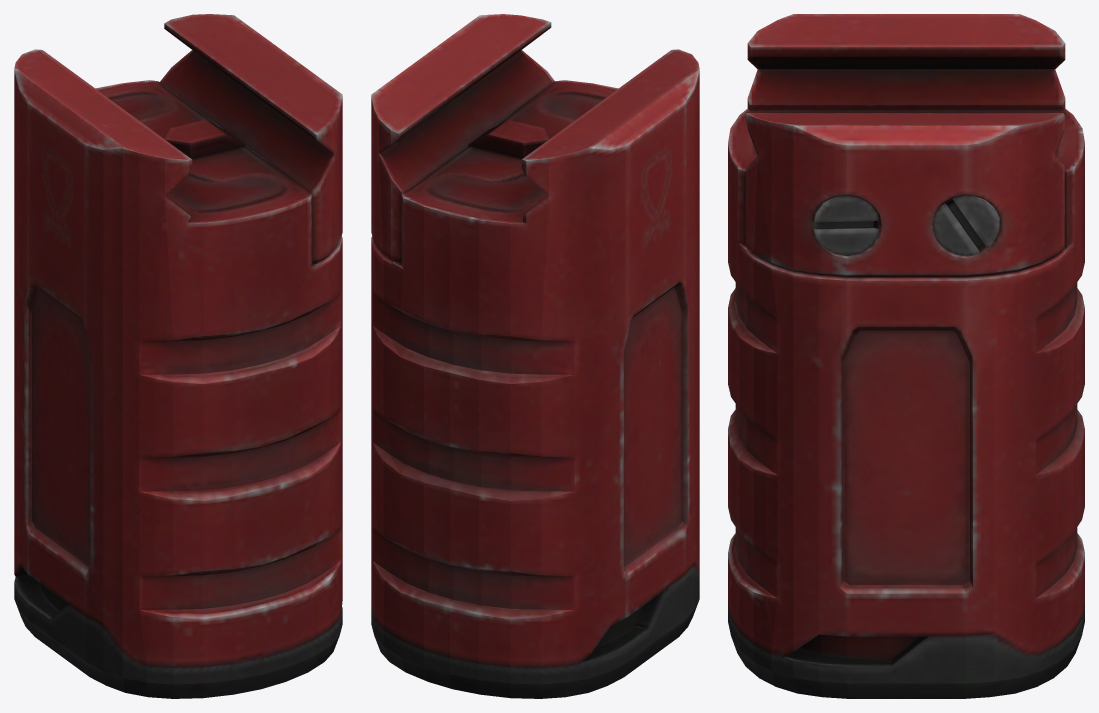
3 views of the same model, side by side, from view 1: azimuth 30°, elevation 25°; view 2: azimuth 150°, elevation 25°; view 3: azimuth 270°, elevation 25° (orthographic). The views are drawn at different scales.
Visible parts, largest first — view 1: TW_65169d5b30425317755f8e25_PZ_Import; view 2: TW_65169d5b30425317755f8e25_PZ_Import; view 3: TW_65169d5b30425317755f8e25_PZ_Import.
Part boxes in pixels (x1,y1,x2,y2): TW_65169d5b30425317755f8e25_PZ_Import: (14,14,342,698); TW_65169d5b30425317755f8e25_PZ_Import: (371,14,699,698); TW_65169d5b30425317755f8e25_PZ_Import: (728,14,1084,698).
Bounding box in the file's own units: 0.0179 × 0.022 × 0.0391.
Materials: 1 (1 with a texture image).
